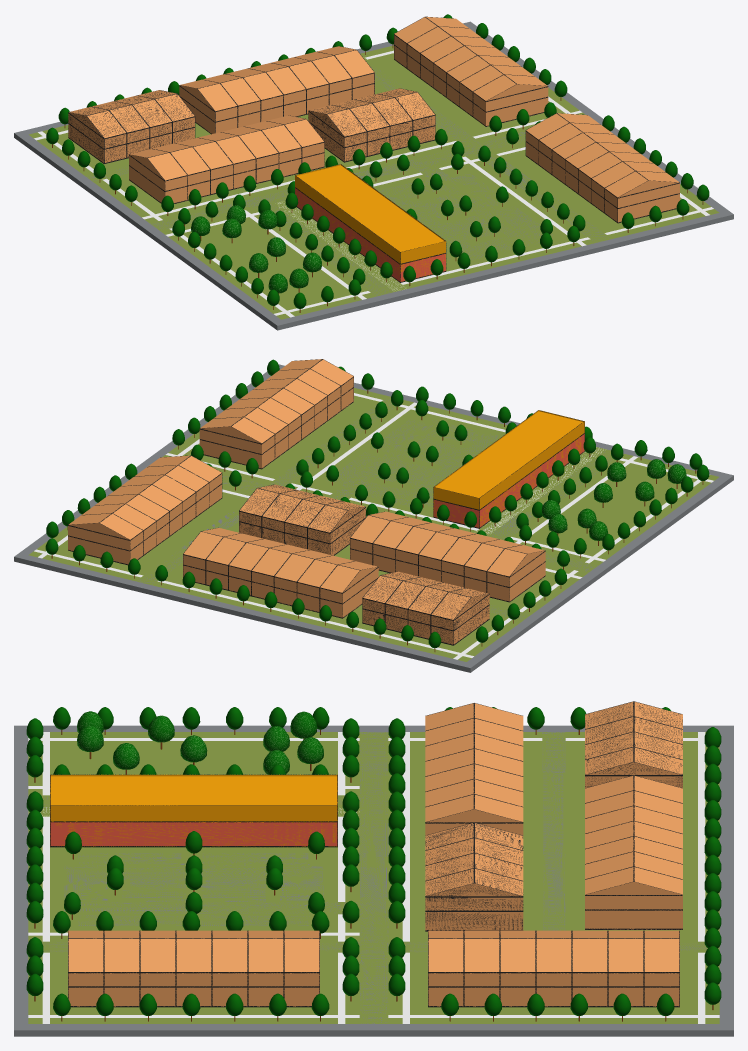
The model's file is townhome_commercial_A.dae.
3 views of the same model, one above another, from view 1: azimuth 30°, elevation 25°; view 2: azimuth 150°, elevation 25°; view 3: azimuth 270°, elevation 25° (orthographic). The views are drawn at different scales.
Parts seen in each view (by area): view 1: group_1 (×19), Component_1 (×40), group_0 (×6); view 2: group_1 (×17), Component_1 (×42), group_0 (×6); view 3: group_1 (×18), Component_1 (×75), group_0 (×4), Tree_z_Icon_3_1 (×7).
Part boxes in pixels (left/top/right/bottom): group_1 (×19): left=14, top=21, right=733, bottom=330; Component_1 (×40): left=87, top=17, right=679, bottom=222; group_0 (×6): left=295, top=164, right=446, bottom=282; group_1 (×17): left=14, top=364, right=733, bottom=672; Component_1 (×42): left=68, top=359, right=545, bottom=644; group_0 (×6): left=433, top=410, right=584, bottom=528; group_1 (×18): left=14, top=725, right=733, bottom=1036; Component_1 (×75): left=68, top=702, right=682, bottom=1005; group_0 (×4): left=50, top=774, right=337, bottom=847; Tree_z_Icon_3_1 (×7): left=77, top=711, right=323, bottom=769.
Size of the model in its own units: 102 by 102 by 8.57.
